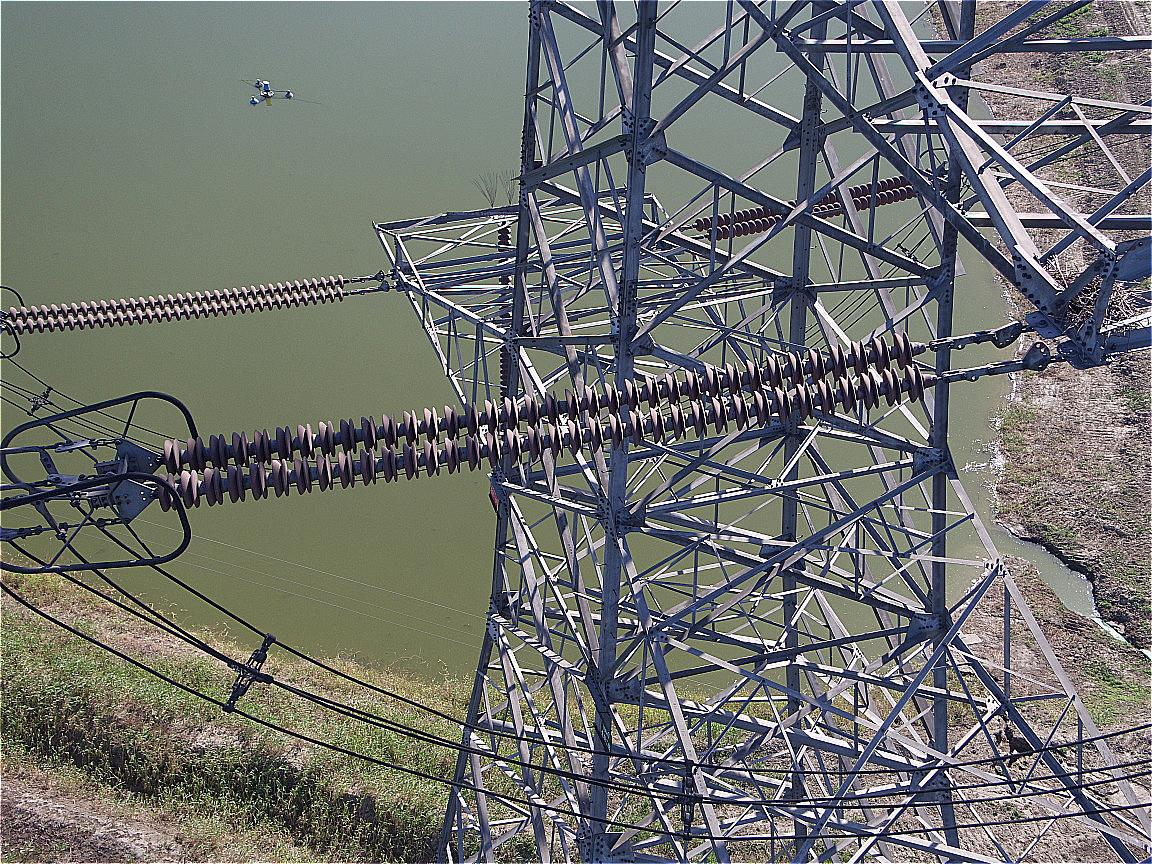insultor1: (8, 273, 344, 335), (695, 178, 913, 242)
insultor2: (157, 330, 926, 512)
